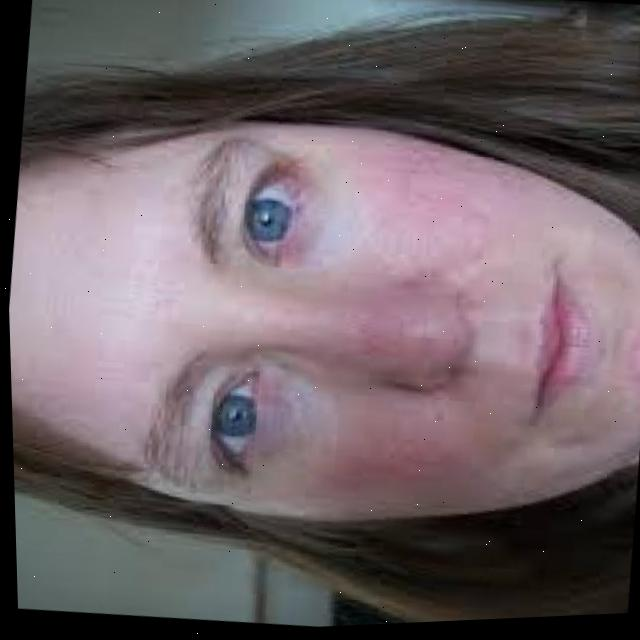Rosacea: (321, 130, 475, 504)
